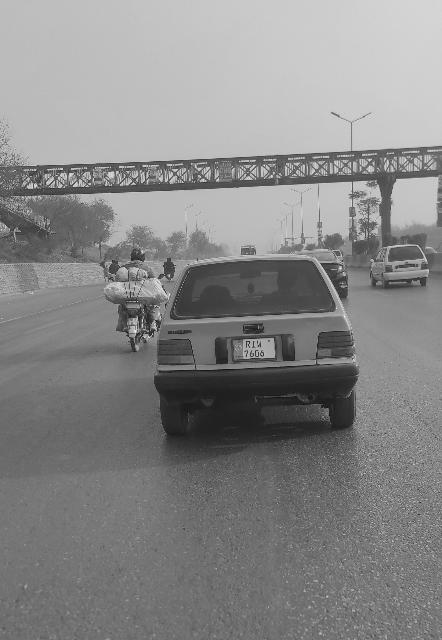Number: (243, 341, 265, 359)
